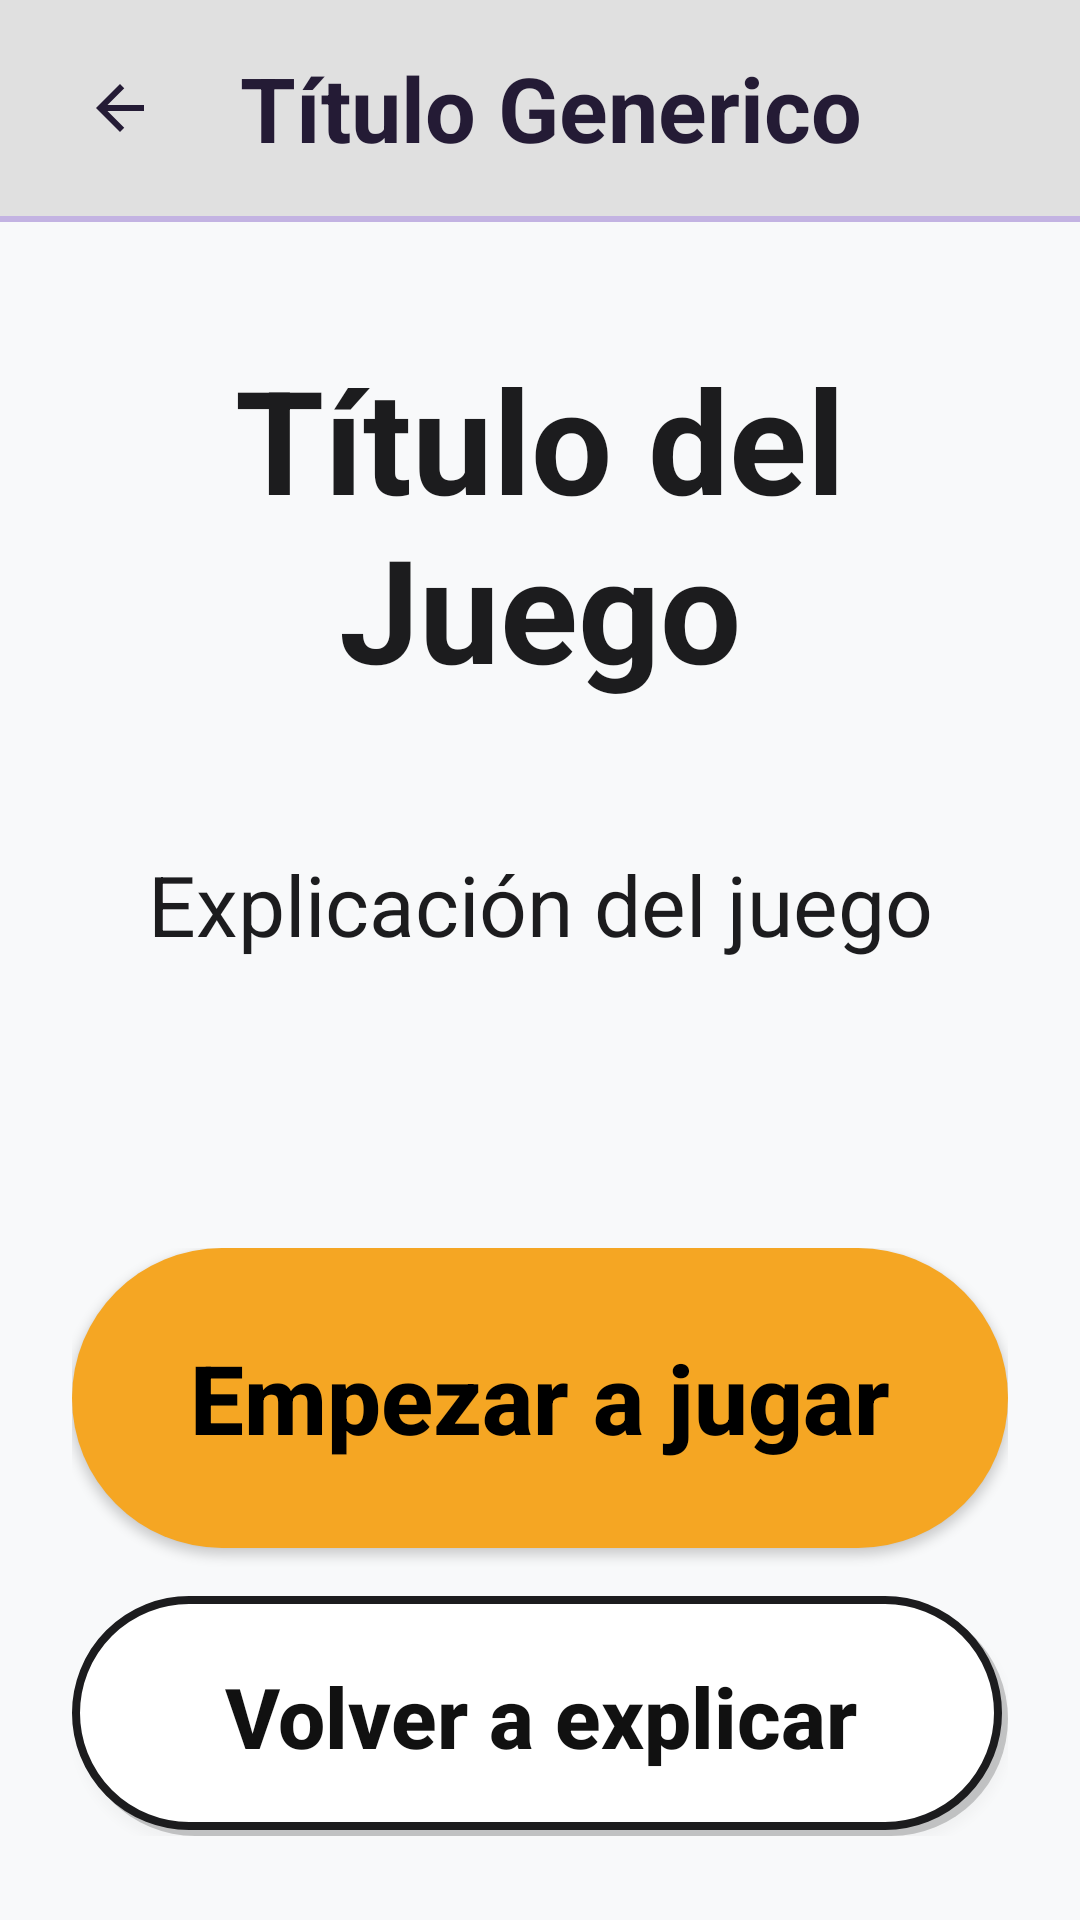

Screen size 1080*1920. Icon name, then its center in pixels as (x=x, y=y):
Atrás: (x=120, y=108)
